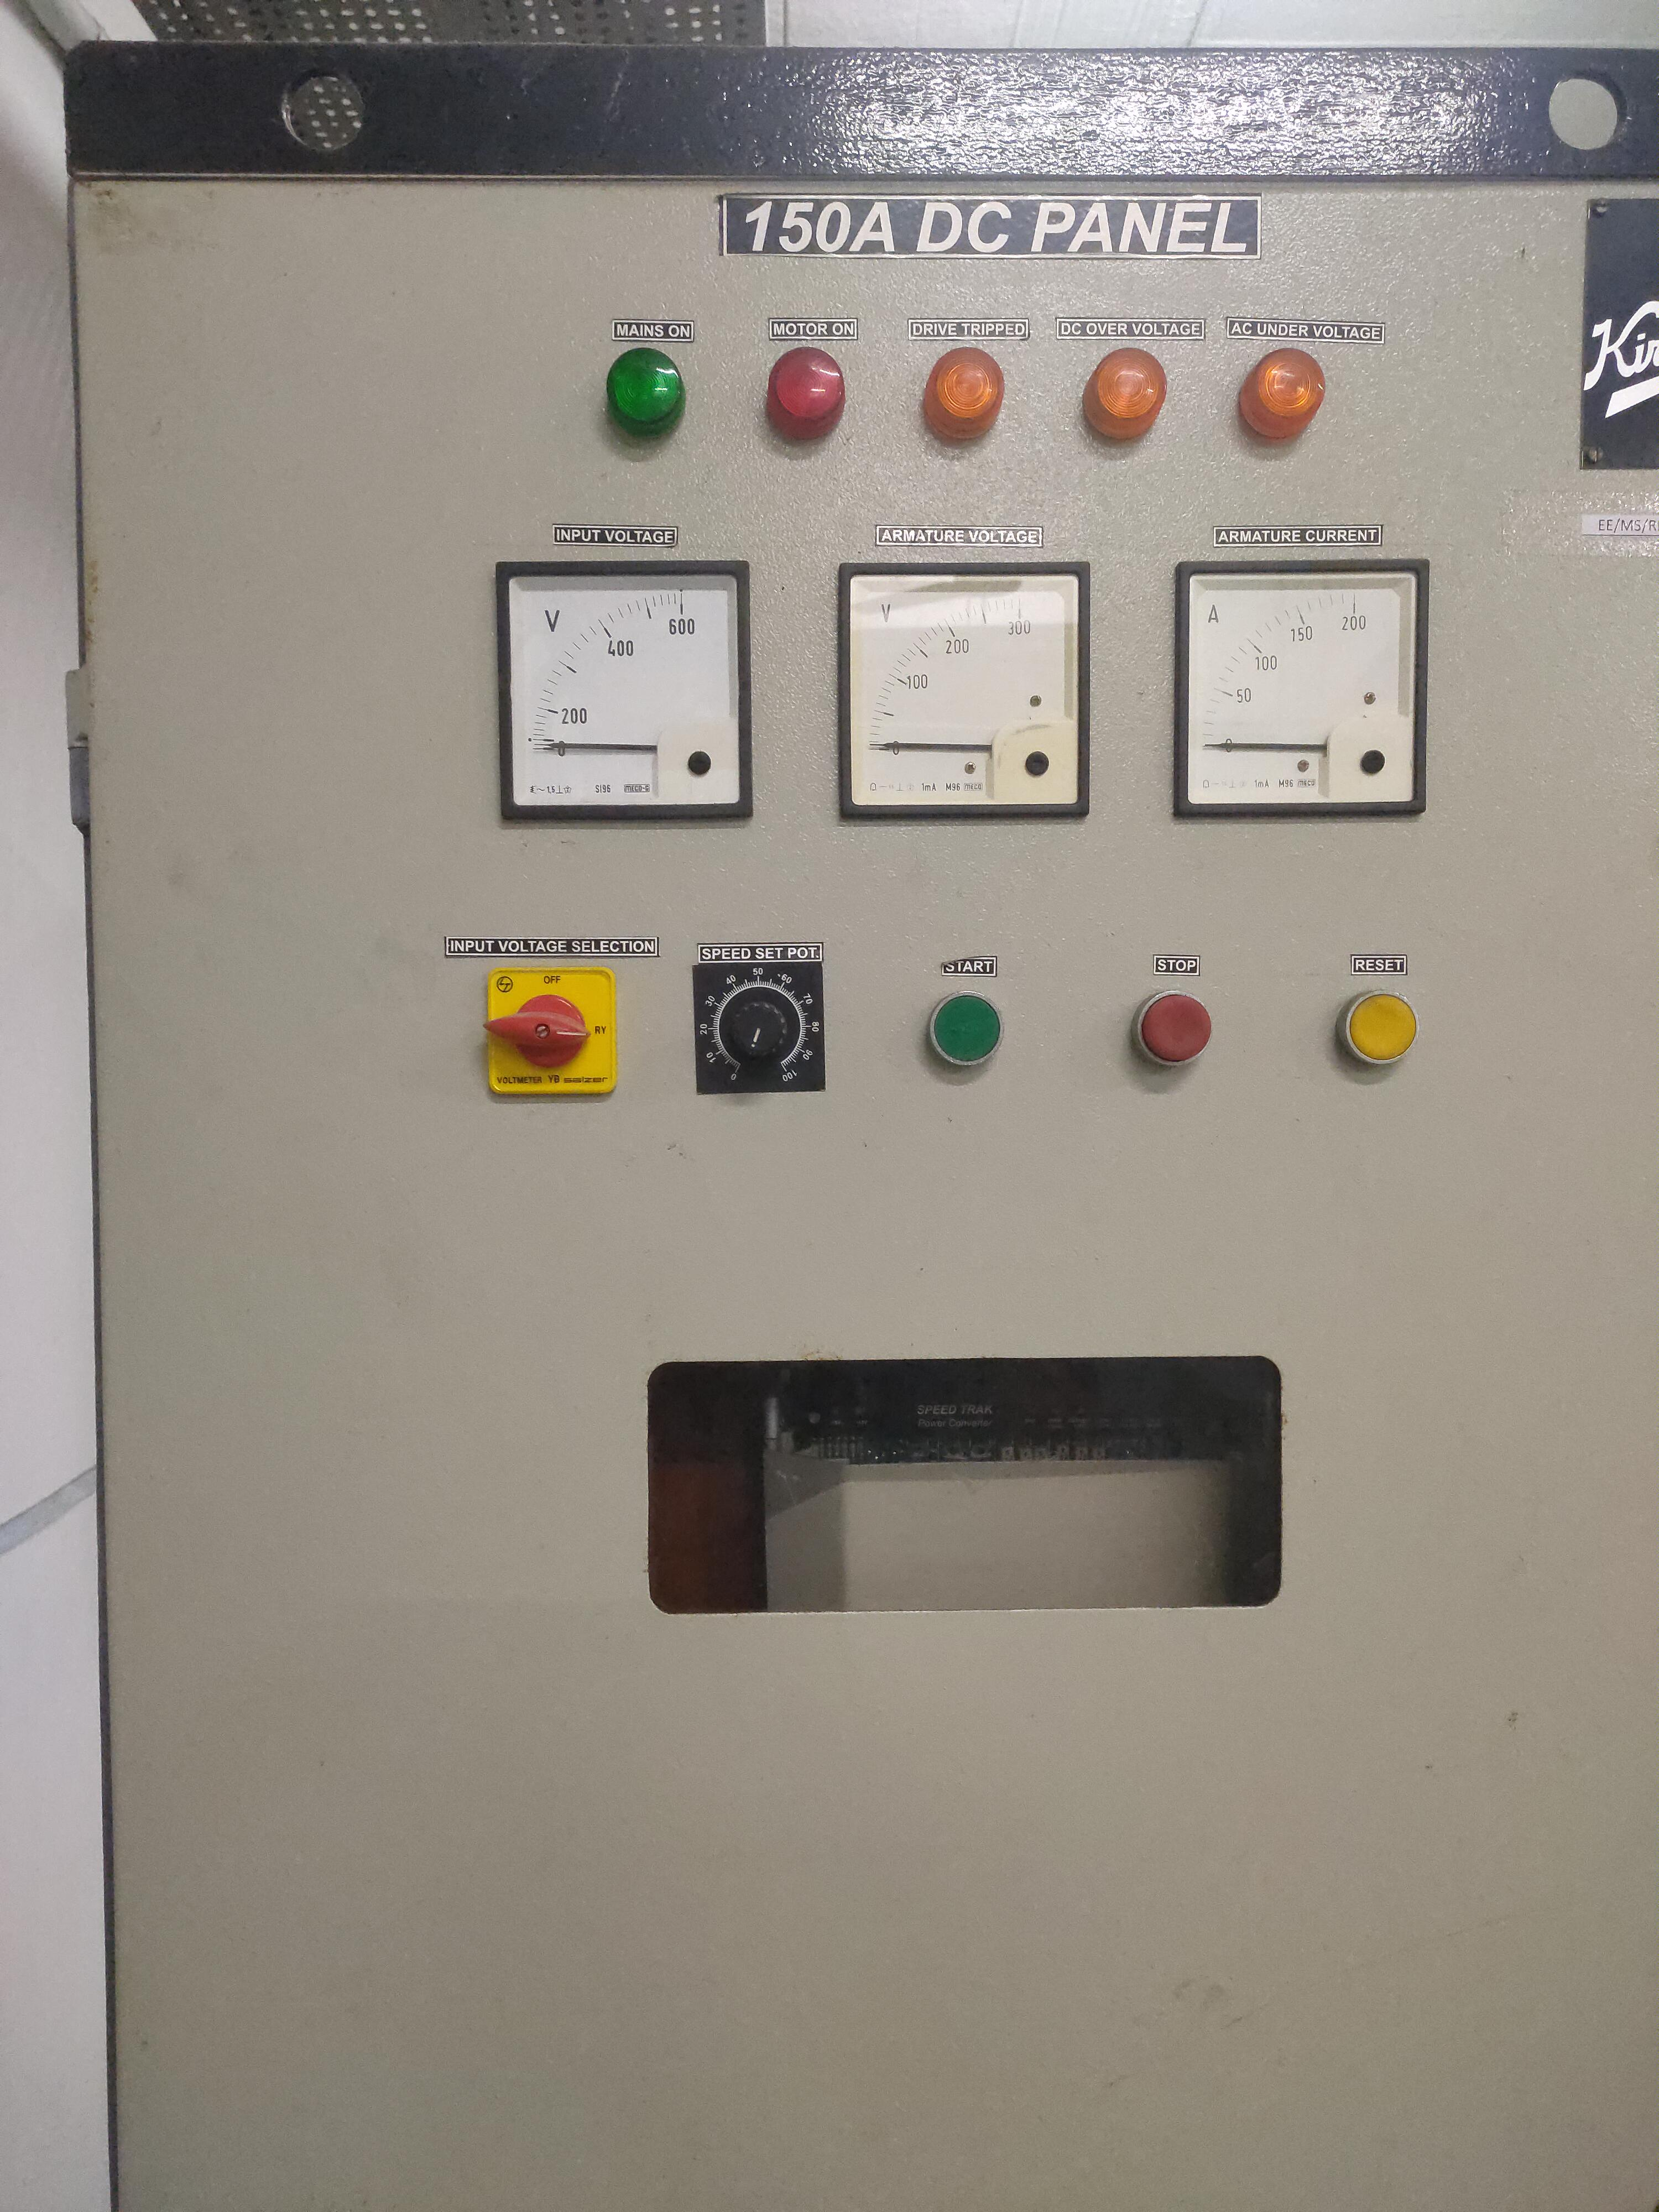Light Indications: (561, 291, 1354, 507)
